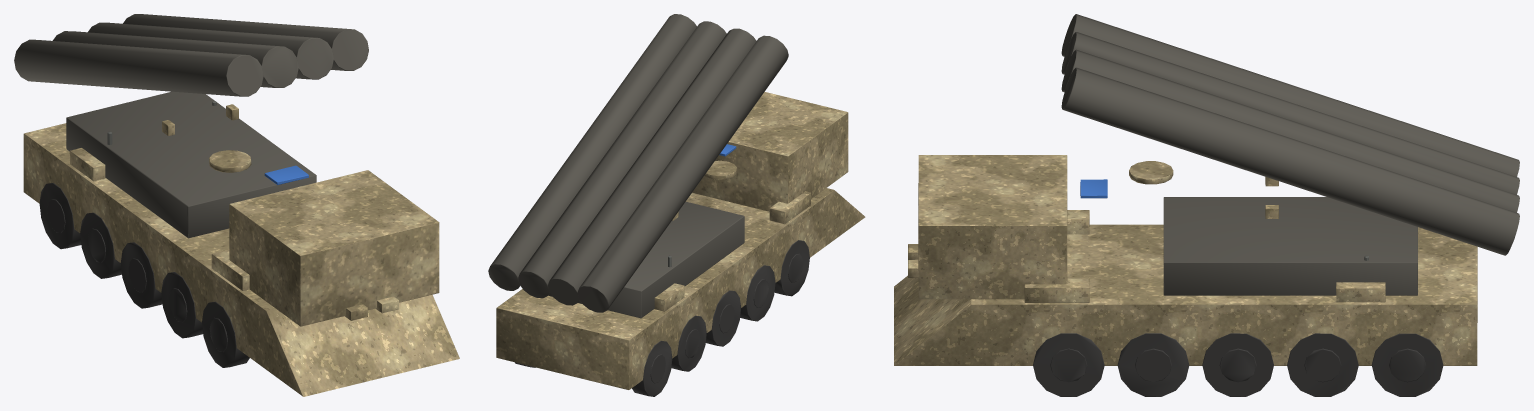
The model's file is aad_e4_us_longsam_LOD1.glb.
3 renders of one model, left to right at view 1: azimuth 30°, elevation 25°; view 2: azimuth 150°, elevation 25°; view 3: azimuth 270°, elevation 25°, orthographic. The views are drawn at different scales.
Visible parts, largest first — view 1: aad_e4_us_longsam_LOD1_body, aad_e4_us_longsam_LOD1_deck, aad_e4_us_longsam_LOD1_track, aad_e4_us_longsam_LOD1_team; view 2: aad_e4_us_longsam_LOD1_deck, aad_e4_us_longsam_LOD1_body, aad_e4_us_longsam_LOD1_track; view 3: aad_e4_us_longsam_LOD1_deck, aad_e4_us_longsam_LOD1_body, aad_e4_us_longsam_LOD1_track, aad_e4_us_longsam_LOD1_team.
Part boxes in pixels (<box>): aad_e4_us_longsam_LOD1_body: <box>23,104,459,396</box>; aad_e4_us_longsam_LOD1_deck: <box>14,14,368,238</box>; aad_e4_us_longsam_LOD1_track: <box>39,183,249,367</box>; aad_e4_us_longsam_LOD1_team: <box>264,165,308,184</box>; aad_e4_us_longsam_LOD1_deck: <box>488,14,788,318</box>; aad_e4_us_longsam_LOD1_body: <box>496,92,865,389</box>; aad_e4_us_longsam_LOD1_track: <box>515,240,809,396</box>; aad_e4_us_longsam_LOD1_deck: <box>1061,14,1519,295</box>; aad_e4_us_longsam_LOD1_body: <box>894,155,1477,365</box>; aad_e4_us_longsam_LOD1_track: <box>1033,333,1443,396</box>; aad_e4_us_longsam_LOD1_team: <box>1080,179,1107,198</box>.
Size of the model in its own units: 3.09 by 5.58 by 10.07.
Materials: 5 (1 with a texture image).
